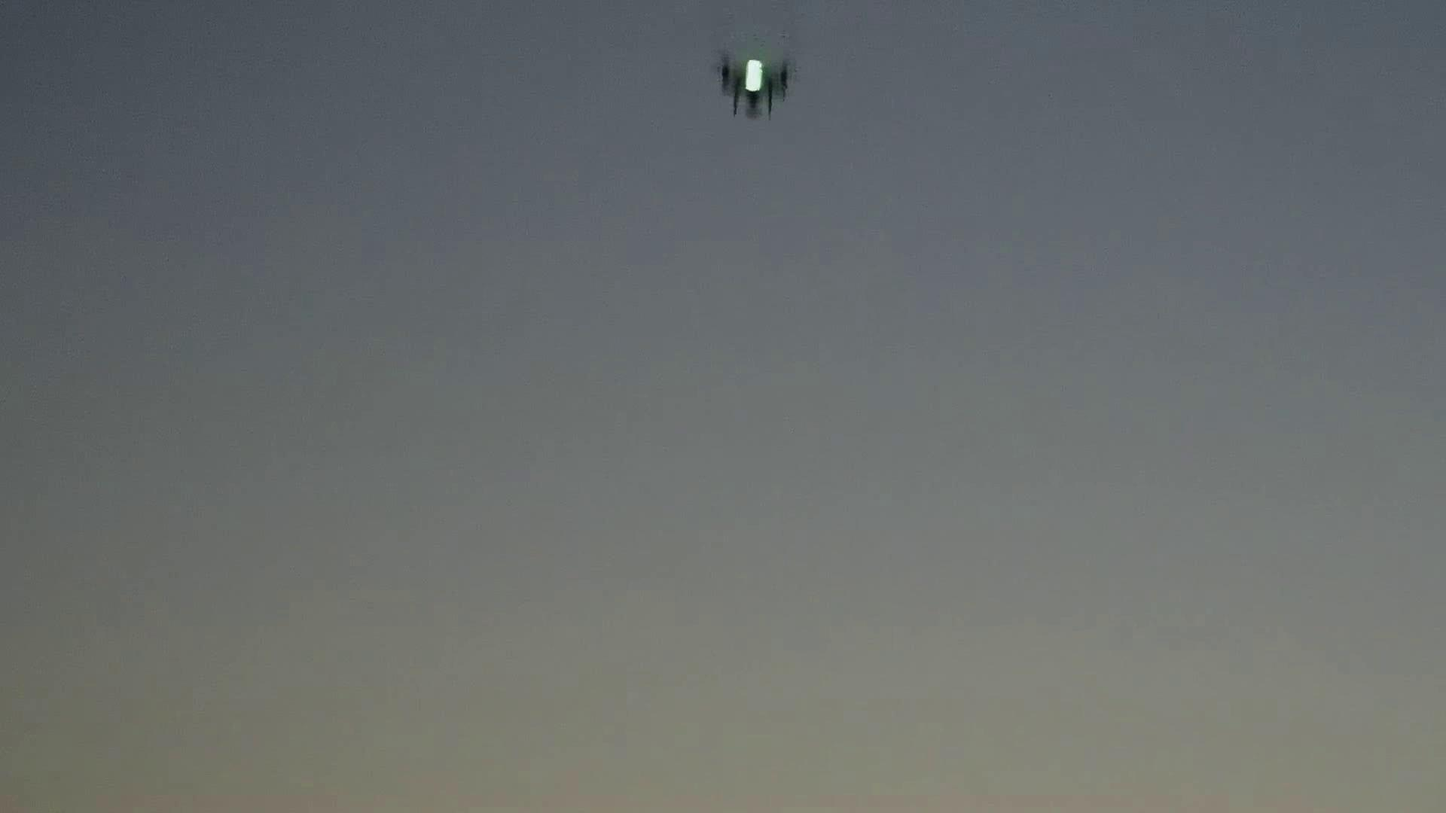DJI-Phantom: (712, 51, 795, 118)
